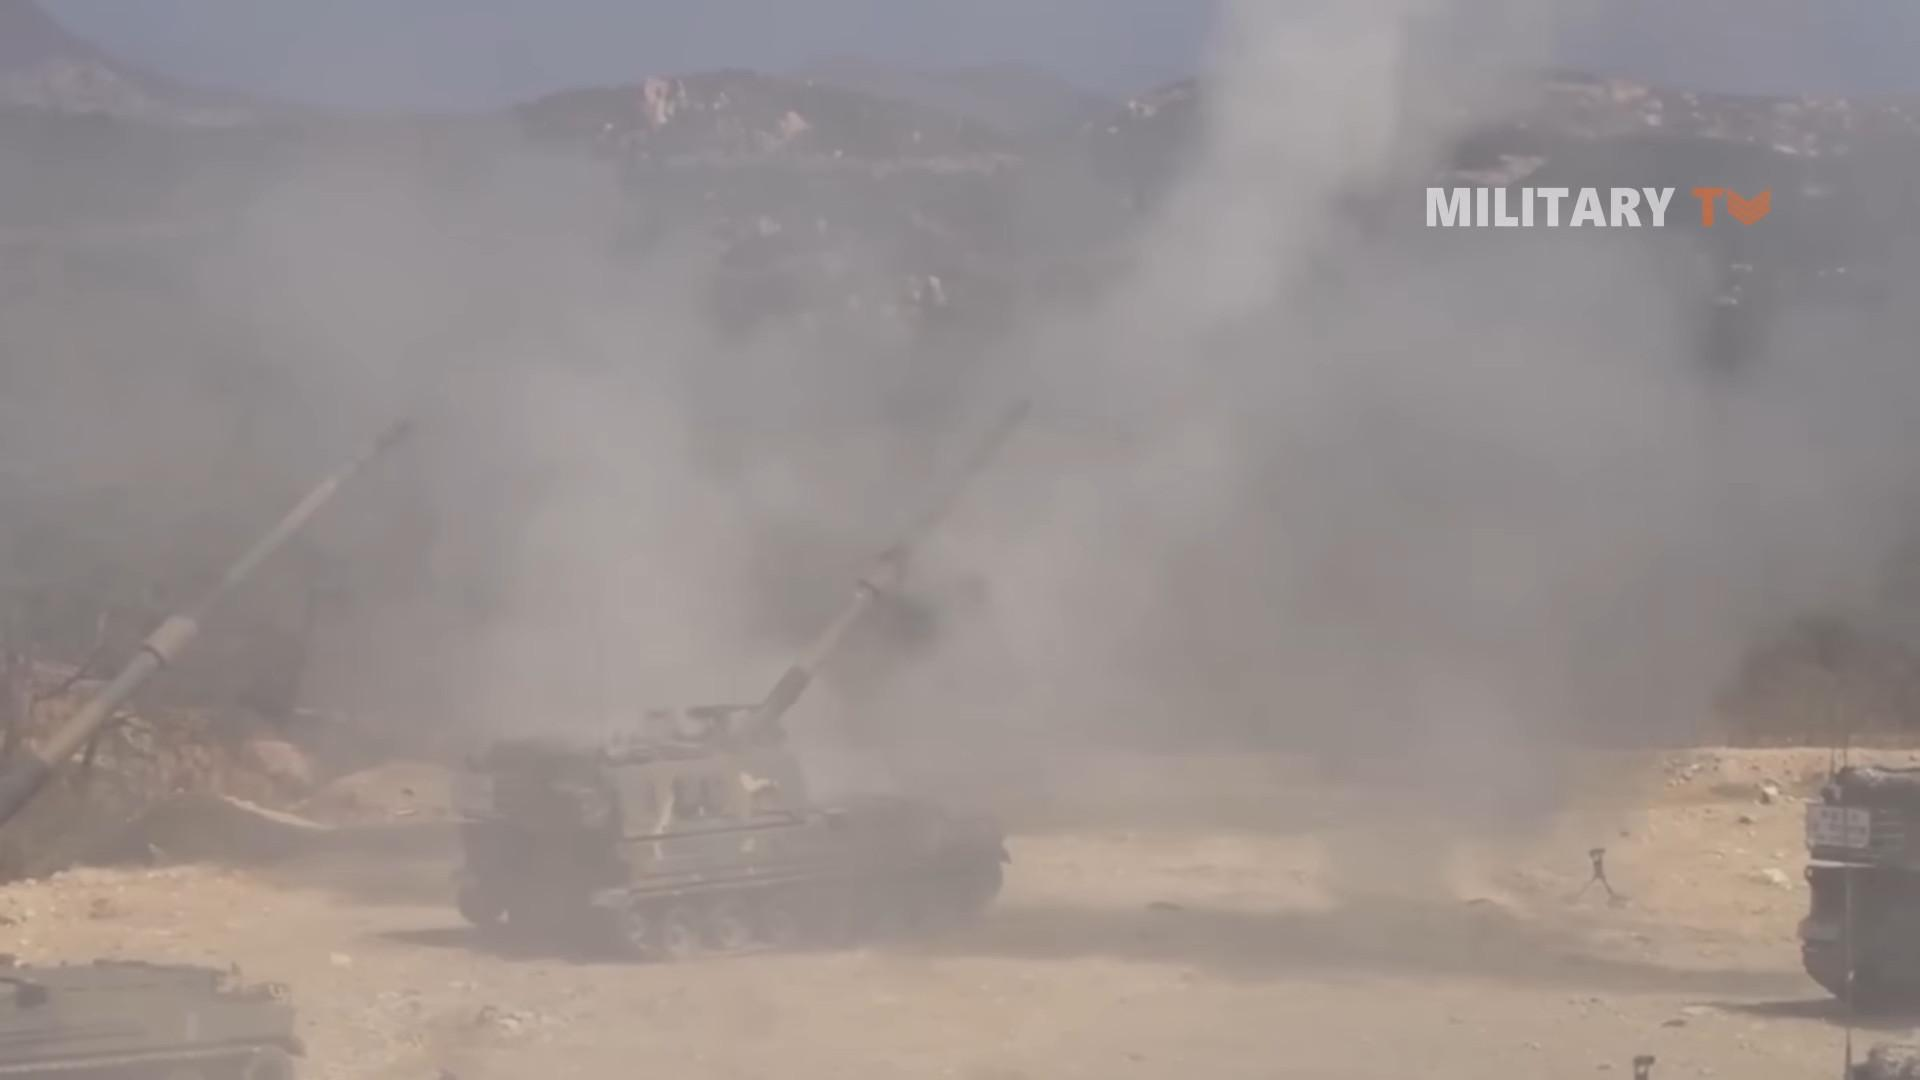tank: (451, 396, 1030, 969)
